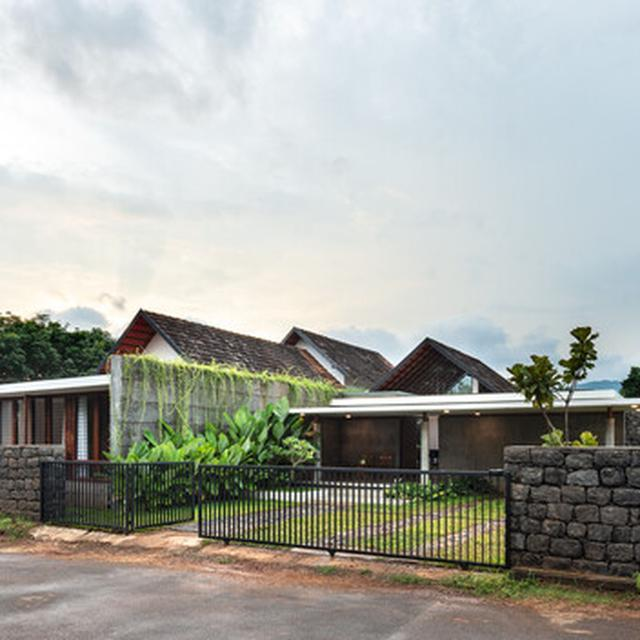building: (3, 307, 640, 494)
